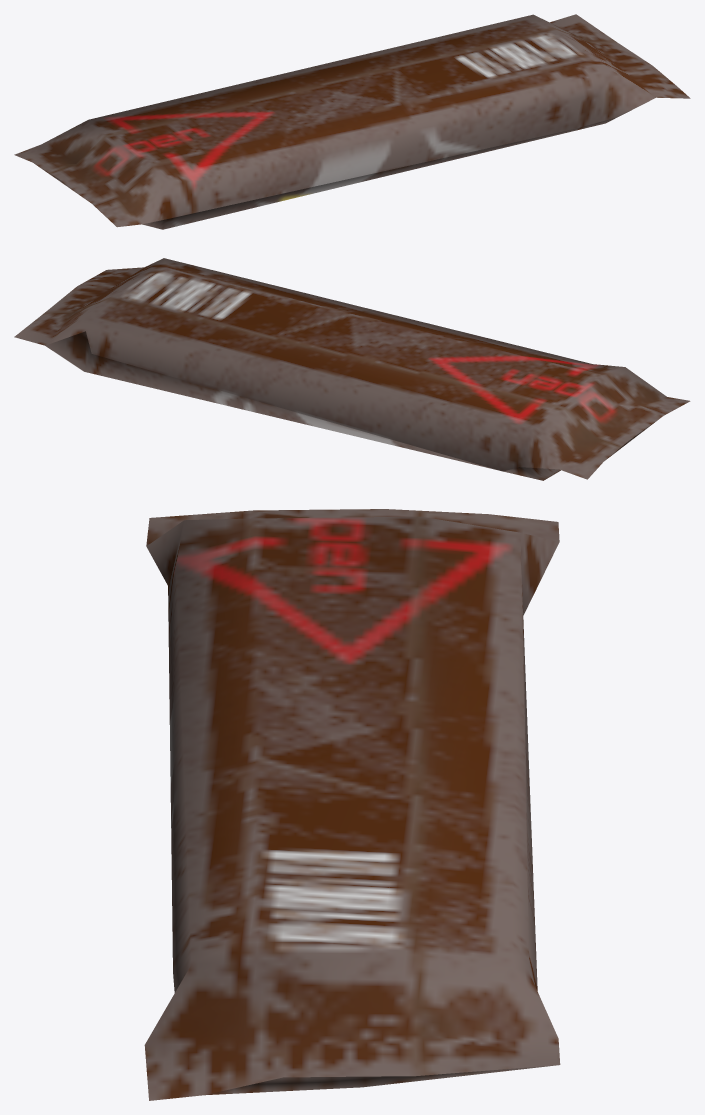
Rendered from uploads_files_2135669_SM_Snack08.FBX.
3 renders of one model, top to bottom at view 1: azimuth 30°, elevation 25°; view 2: azimuth 150°, elevation 25°; view 3: azimuth 270°, elevation 25°, orthographic. The views are drawn at different scales.
Parts seen in each view (by area): view 1: SM_Snack08; view 2: SM_Snack08; view 3: SM_Snack08.
Part boxes in pixels (left/top/right/bottom): SM_Snack08: left=14, top=14, right=690, bottom=229; SM_Snack08: left=14, top=258, right=690, bottom=480; SM_Snack08: left=144, top=509, right=560, bottom=1100.
Size of the model in its own units: 10.62 by 1.01 by 3.32.
